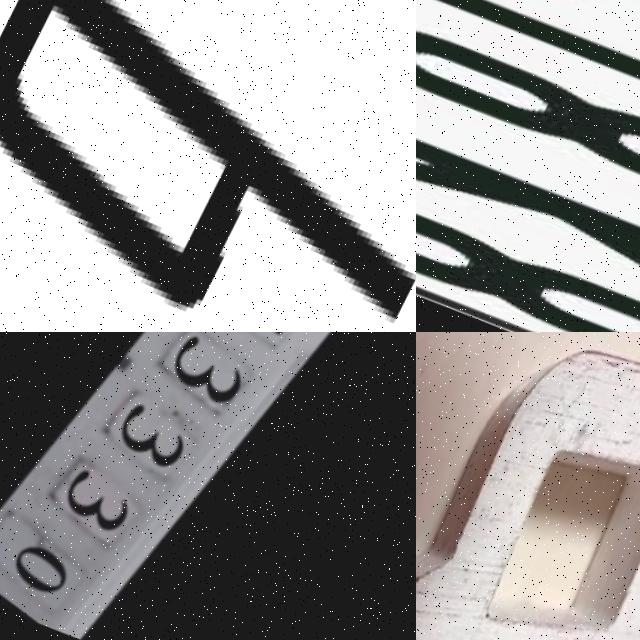0: (0, 522, 110, 614)
3: (103, 387, 225, 489), (156, 332, 280, 424), (52, 453, 167, 549)
4: (416, 0, 640, 134), (210, 332, 330, 356)
8: (416, 0, 640, 256), (416, 144, 640, 332)
K: (416, 81, 640, 332)
Q: (416, 332, 640, 640)
T: (416, 0, 640, 192)
